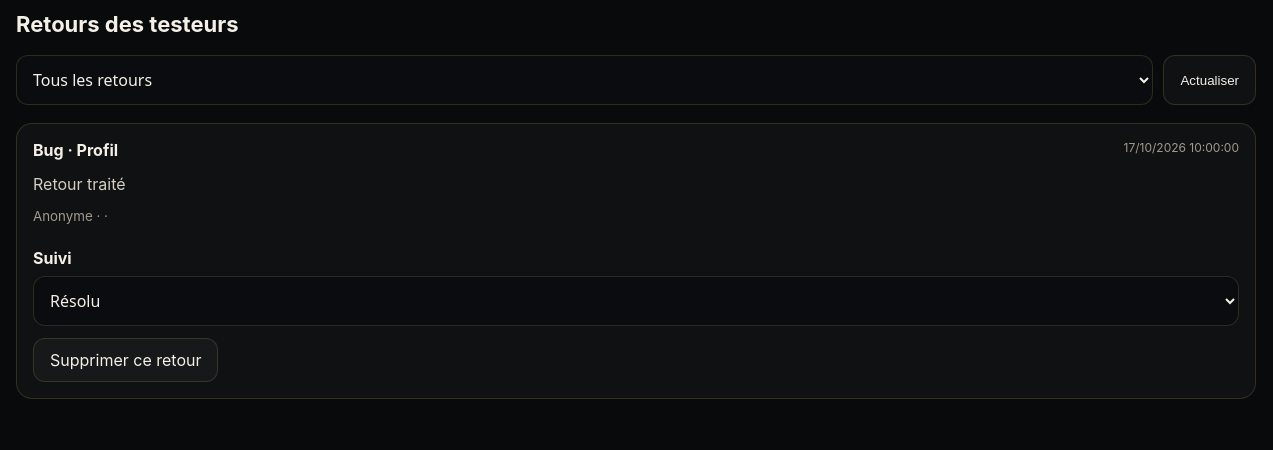
Test: deletion requires confirmation, can be cancelled and removes the report after success
Click the button "Supprimer ce retour": point(126, 360) top-left (33, 338), bottom-right (218, 382)
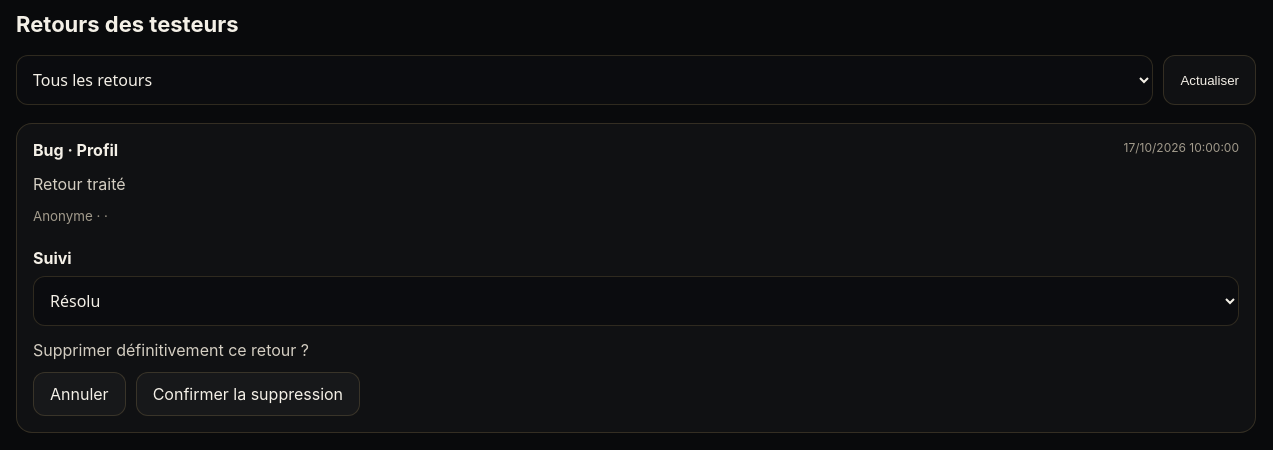
Click the button "Annuler": point(79, 394) top-left (33, 372), bottom-right (126, 416)
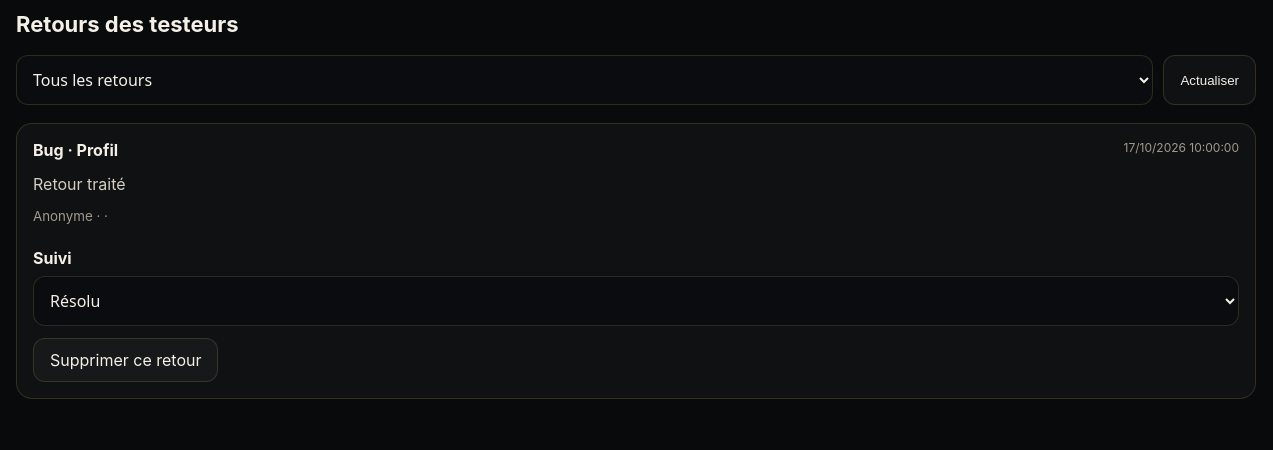
Check: the text "Supprimer définitivement ce retour ?" is gone
Click the button "Supprimer ce retour": point(126, 360) top-left (33, 338), bottom-right (218, 382)
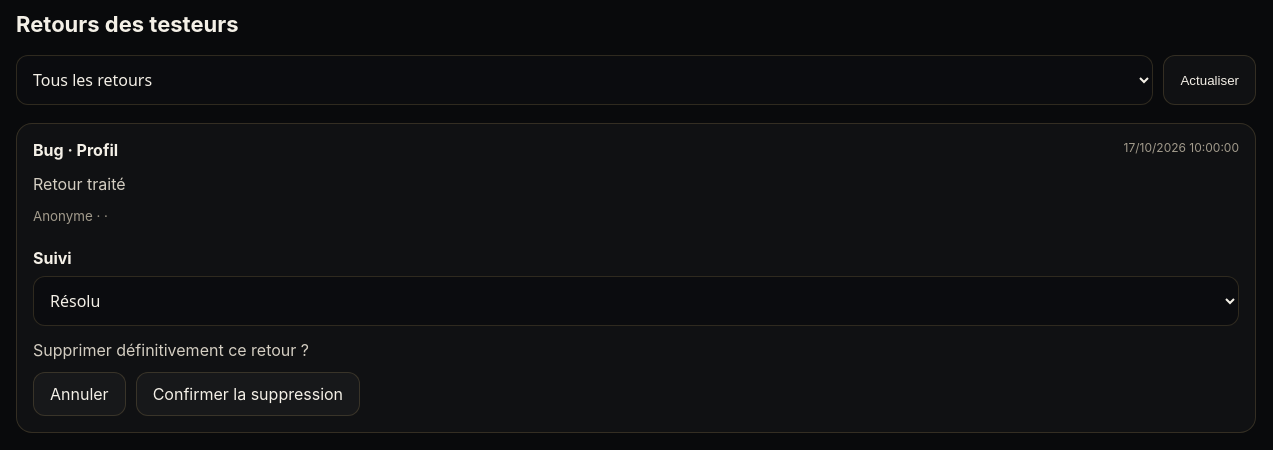
Click the button "Confirmer la suppression": point(248, 394) top-left (136, 372), bottom-right (360, 416)
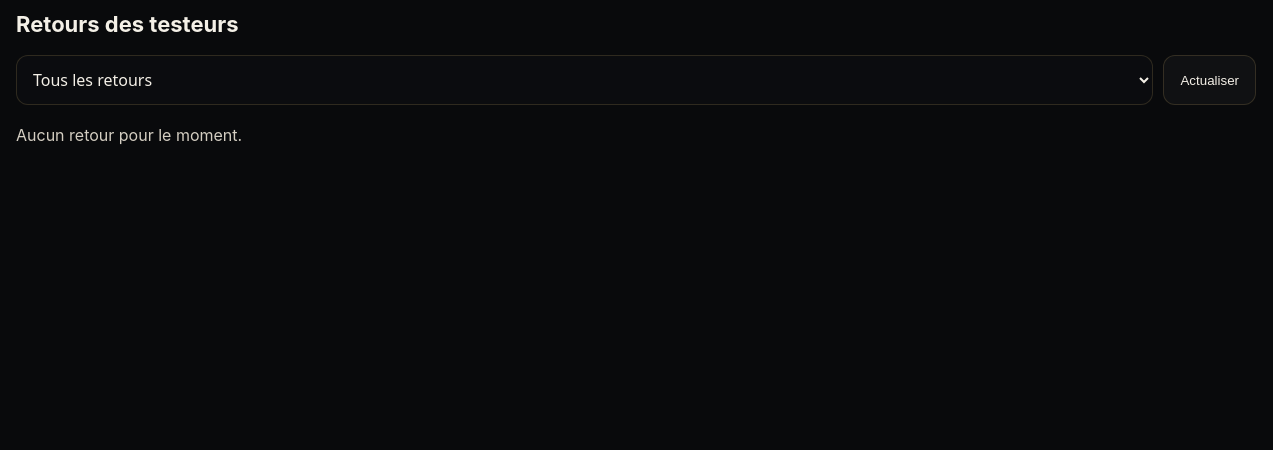
Check: the text "Aucun retour pour le moment." is shown, box top-left (16, 125), bottom-right (242, 145)
